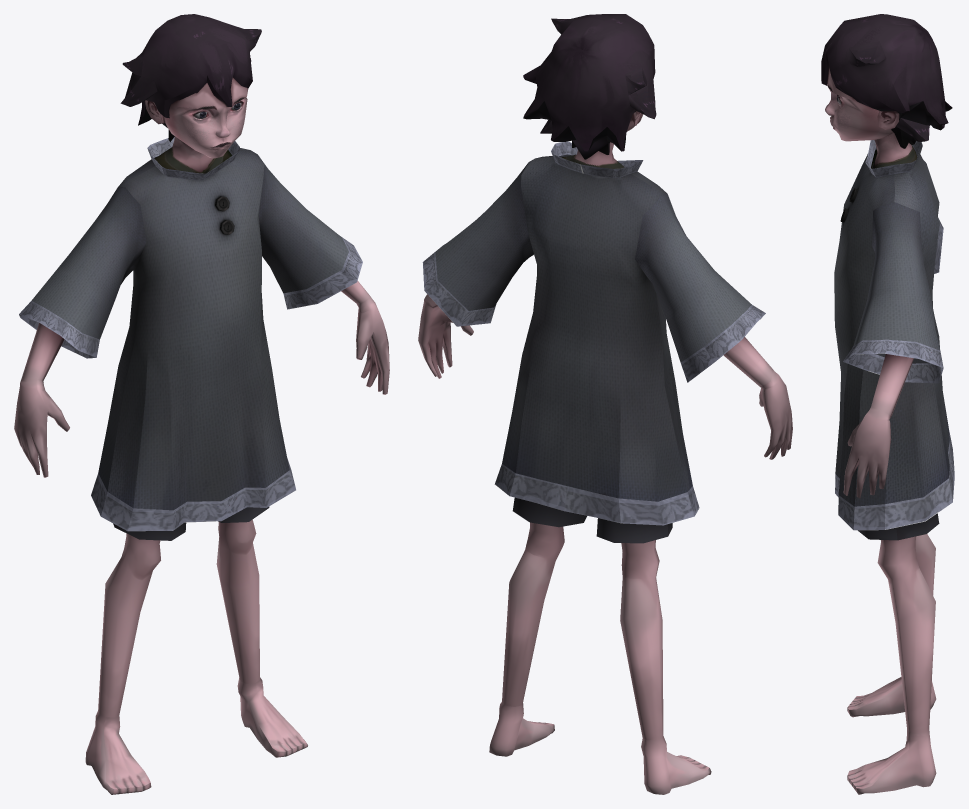
The model's file is child.glb.
The picture shows the model from 3 angles, left to right: view 1: azimuth 30°, elevation 25°; view 2: azimuth 150°, elevation 25°; view 3: azimuth 270°, elevation 25°; orthographic projection.
Visible parts, largest first — view 1: SM_Steven_M1; view 2: SM_Steven_M1; view 3: SM_Steven_M1.
Part boxes in pixels (x1,y1,x2,y2): SM_Steven_M1: (14,14,389,794); SM_Steven_M1: (418,14,792,794); SM_Steven_M1: (821,14,954,794).
Size of the model in its own units: 0.0585 by 0.1136 by 0.0189.
1 material, 1 textured.
